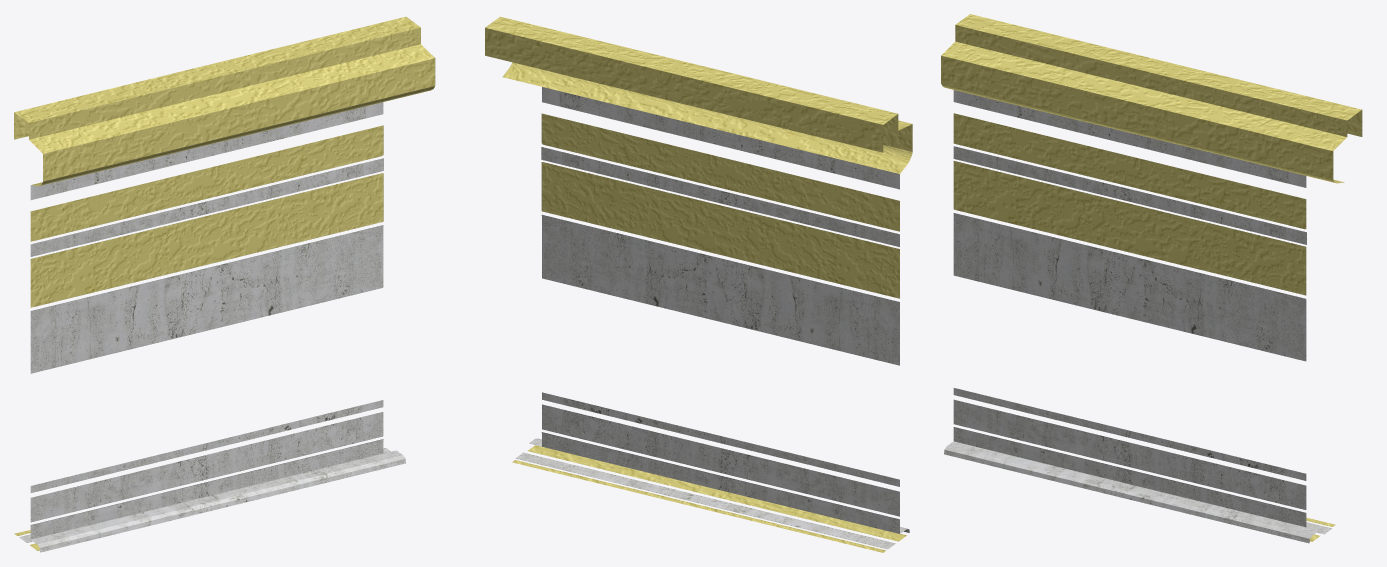
Rendered from wall2x2x0.25.fbx.
3 views of the same model, side by side, from view 1: azimuth 30°, elevation 25°; view 2: azimuth 150°, elevation 25°; view 3: azimuth 330°, elevation 25° (orthographic).
Parts seen in each view (by area): view 1: Wall2x2x0.25; view 2: Wall2x2x0.25; view 3: Wall2x2x0.25.
Boxes of the visible parts, <box> form: Wall2x2x0.25: <box>14,16,435,552</box>; Wall2x2x0.25: <box>485,16,912,552</box>; Wall2x2x0.25: <box>941,14,1362,543</box>.
Bounding box in the file's own units: 200 × 200 × 25.
